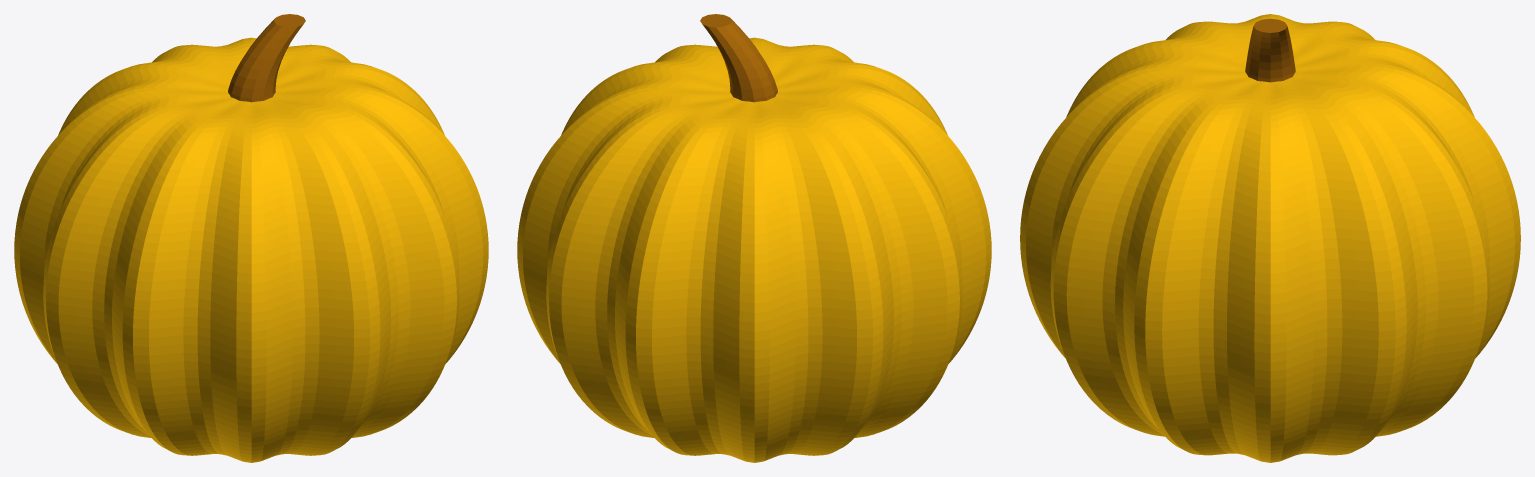
Rendered from mini.glb.
The picture shows the model from 3 angles, left to right: view 1: azimuth 30°, elevation 25°; view 2: azimuth 150°, elevation 25°; view 3: azimuth 270°, elevation 25°; orthographic projection. The views are drawn at different scales.
Parts seen in each view (by area): view 1: body, lid, stem; view 2: body, lid, stem; view 3: body, lid, stem.
Part boxes in pixels (left/top/right/bottom): body: left=14, top=60, right=488, bottom=462; lid: left=73, top=37, right=429, bottom=196; stem: left=228, top=14, right=305, bottom=102; body: left=517, top=60, right=991, bottom=462; lid: left=576, top=37, right=932, bottom=196; stem: left=700, top=14, right=777, bottom=102; body: left=1020, top=39, right=1520, bottom=462; lid: left=1082, top=14, right=1458, bottom=181; stem: left=1245, top=18, right=1295, bottom=82.
Size of the model in its own units: 1.92 by 1.71 by 1.92.
